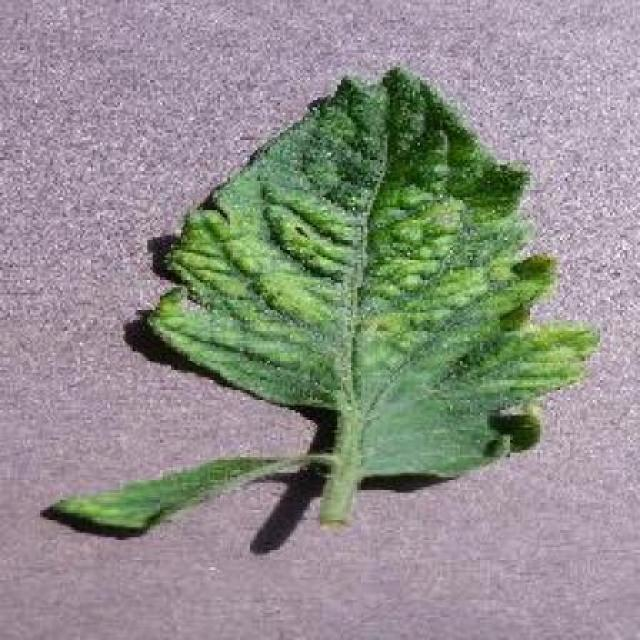Mosaic Virus: (145, 61, 601, 482), (46, 454, 291, 535)
